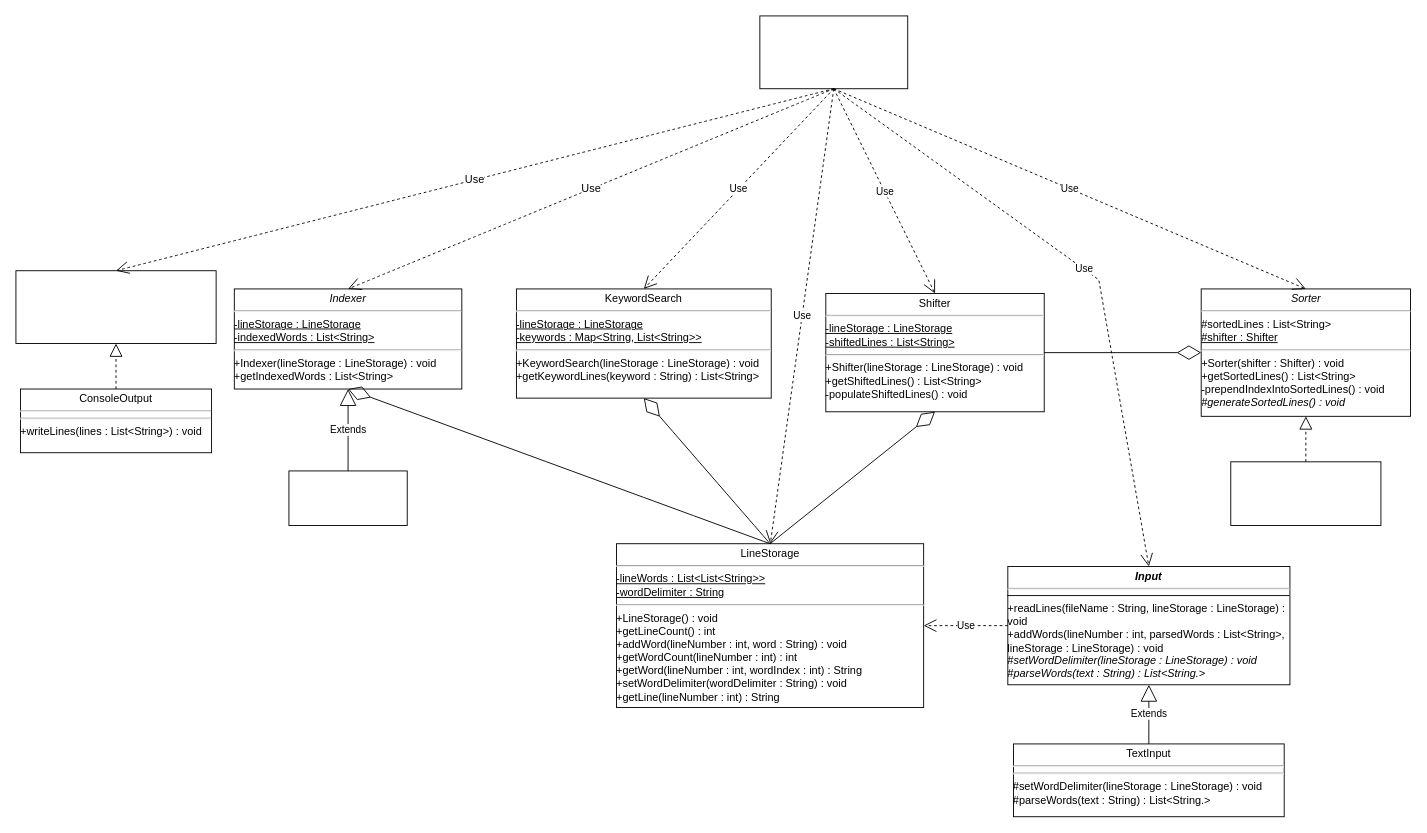
Some shapes in this 1427 by 833 pixel diagram are drawn without their labels. Each missing label, with the centre of its shape:
<<Interface>> Output +writeLines(lines : List<String>) : void: (x=115, y=307)
AlphabeticalSorter #generateSortedLines() : void: (x=1305, y=493)
GenericIndexer: (x=347, y=498)
Main +main (args : String[]) : void -run() : void: (x=833, y=52)
